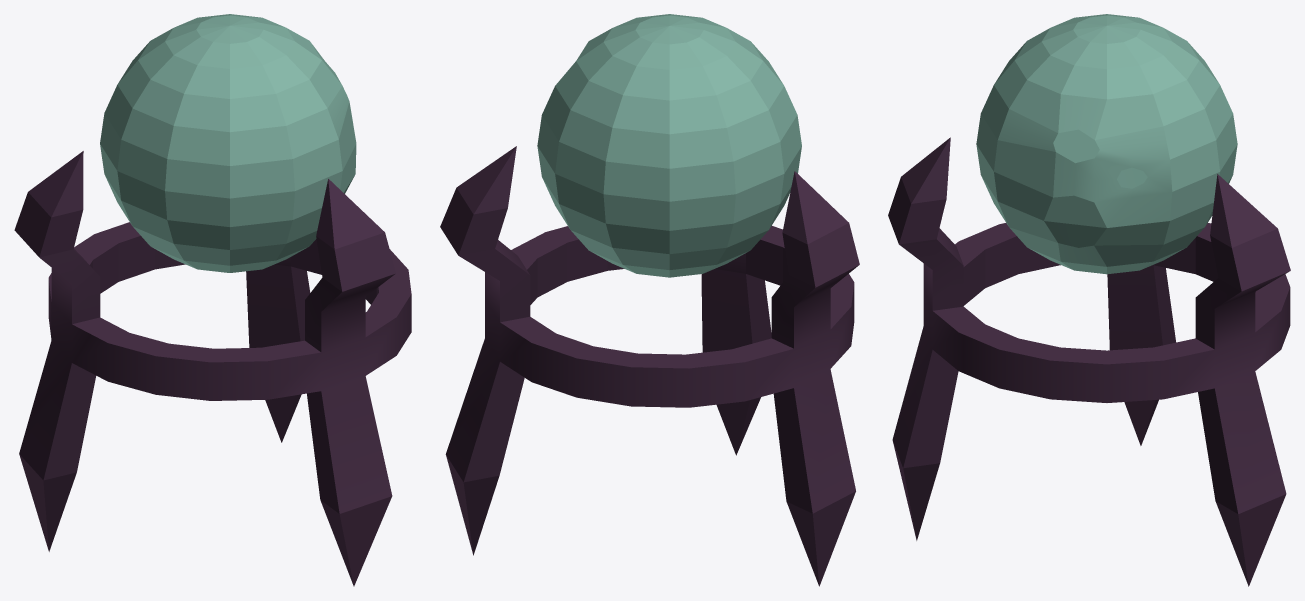
Rendered from CrystalBall.fbx.
The picture shows the model from 3 angles, left to right: view 1: azimuth 30°, elevation 25°; view 2: azimuth 150°, elevation 25°; view 3: azimuth 270°, elevation 25°; orthographic projection.
Visible parts, largest first — view 1: CrystalBall_STand, CrystalBall; view 2: CrystalBall_STand, CrystalBall; view 3: CrystalBall_STand, CrystalBall.
Boxes of the visible parts, x1=… form: CrystalBall_STand: x1=14, y1=151, x2=411, y2=586; CrystalBall: x1=100, y1=14, x2=356, y2=272; CrystalBall_STand: x1=440, y1=146, x2=859, y2=586; CrystalBall: x1=537, y1=14, x2=801, y2=277; CrystalBall_STand: x1=888, y1=137, x2=1290, y2=586; CrystalBall: x1=976, y1=14, x2=1237, y2=274.
Bounding box in the file's own units: 93.79 × 129 × 93.79.
